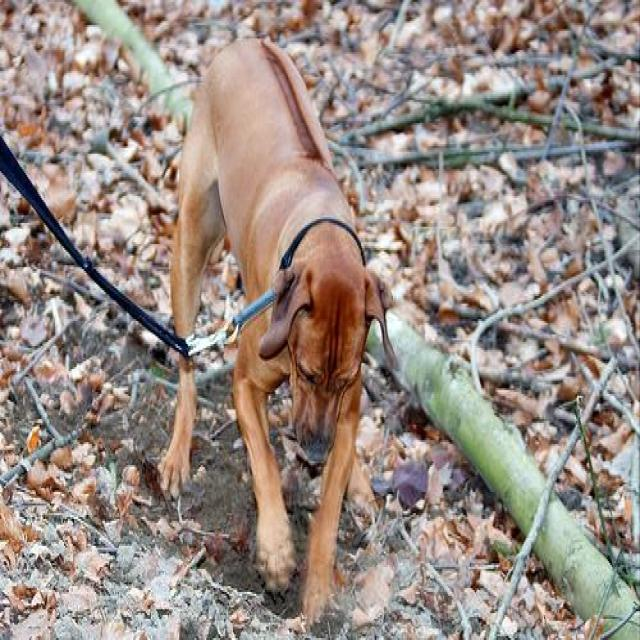rhodesian_ridgeback: (151, 31, 403, 630)
